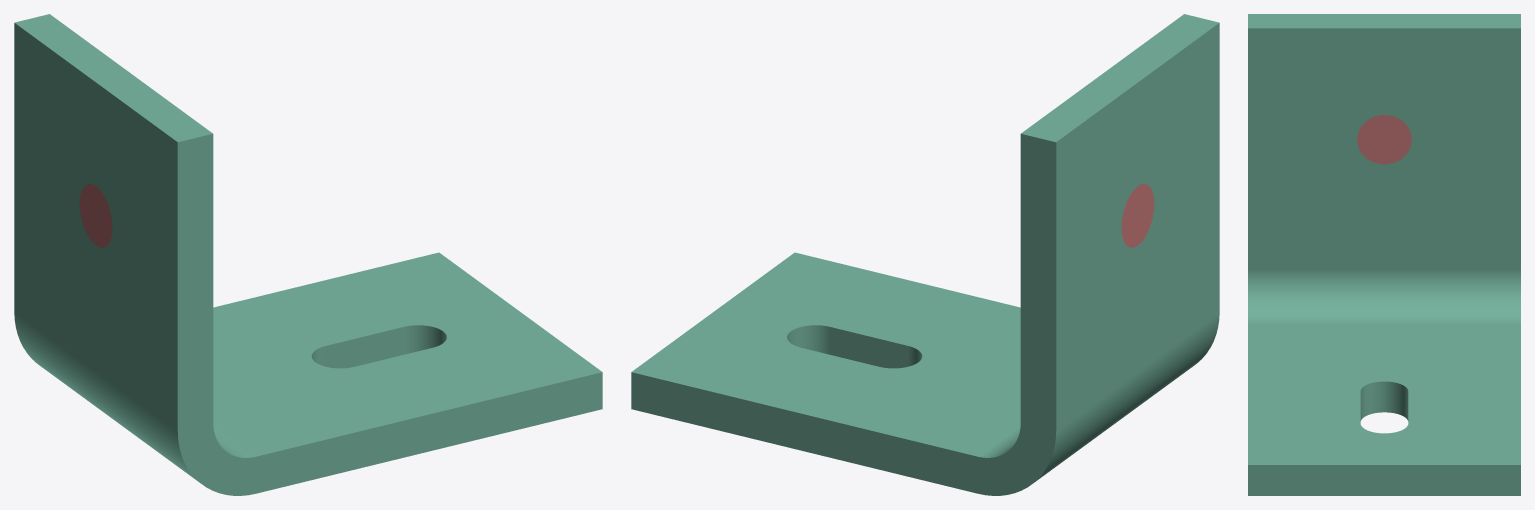
Rendered from step_06.glb.
The picture shows the model from 3 angles, left to right: view 1: azimuth 30°, elevation 25°; view 2: azimuth 150°, elevation 25°; view 3: azimuth 270°, elevation 25°; orthographic projection. The views are drawn at different scales.
Parts seen in each view (by area): view 1: part__L bracket, removed__L bracket; view 2: part__L bracket, removed__L bracket; view 3: part__L bracket, removed__L bracket.
Part boxes in pixels (box(x1,y1,x2,y2)): part__L bracket: box(14, 14, 602, 495); removed__L bracket: box(79, 184, 112, 247); part__L bracket: box(631, 14, 1219, 495); removed__L bracket: box(1121, 184, 1154, 247); part__L bracket: box(1248, 14, 1520, 495); removed__L bracket: box(1357, 115, 1411, 164).
Size of the model in its own units: 60 by 50 by 40.
